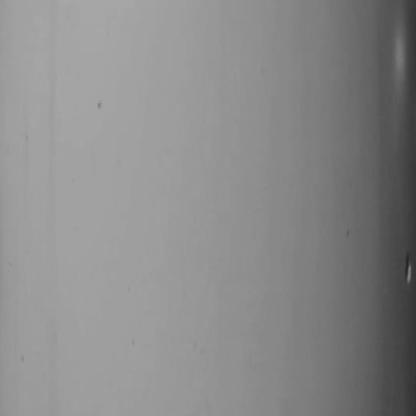kongdong: (392, 238, 416, 292)
